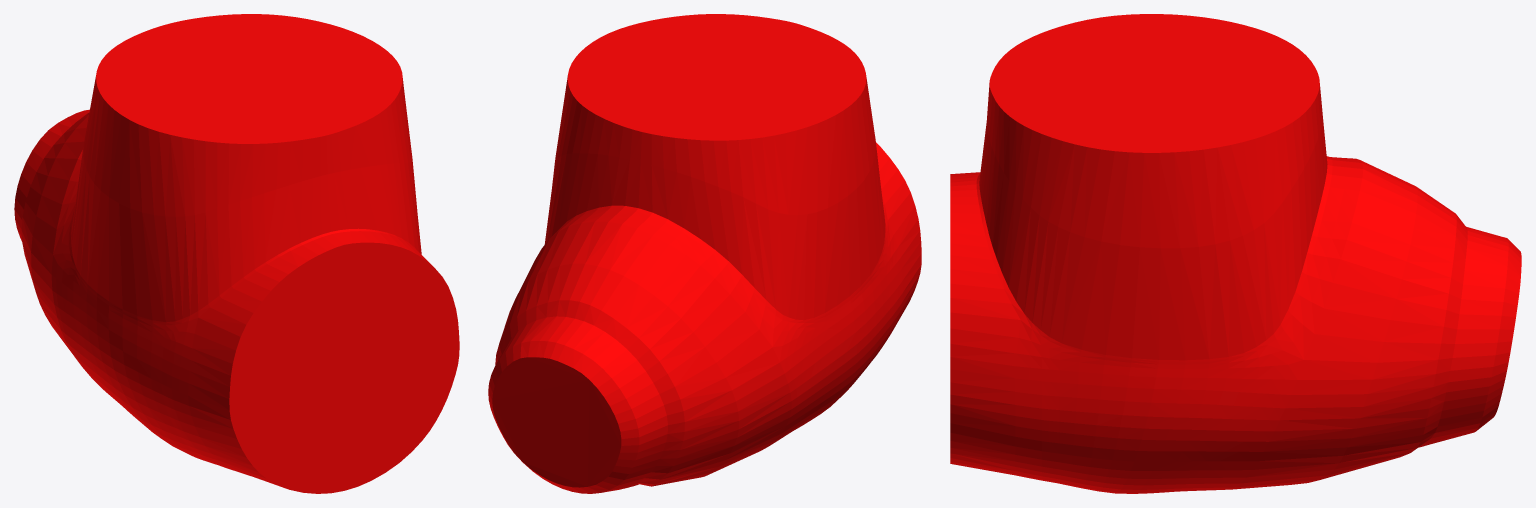
The picture shows the model from 3 angles, left to right: view 1: azimuth 30°, elevation 25°; view 2: azimuth 150°, elevation 25°; view 3: azimuth 270°, elevation 25°; orthographic projection. The views are drawn at different scales.
Visible parts, largest first — view 1: MF0609_5_0; view 2: MF0609_5_0; view 3: MF0609_5_0.
Part boxes in pixels (x1=…): MF0609_5_0: x1=14, y1=14, x2=459, y2=493; MF0609_5_0: x1=488, y1=14, x2=921, y2=493; MF0609_5_0: x1=950, y1=14, x2=1521, y2=493.
Bounding box in the file's own units: 106 × 173 × 132.
